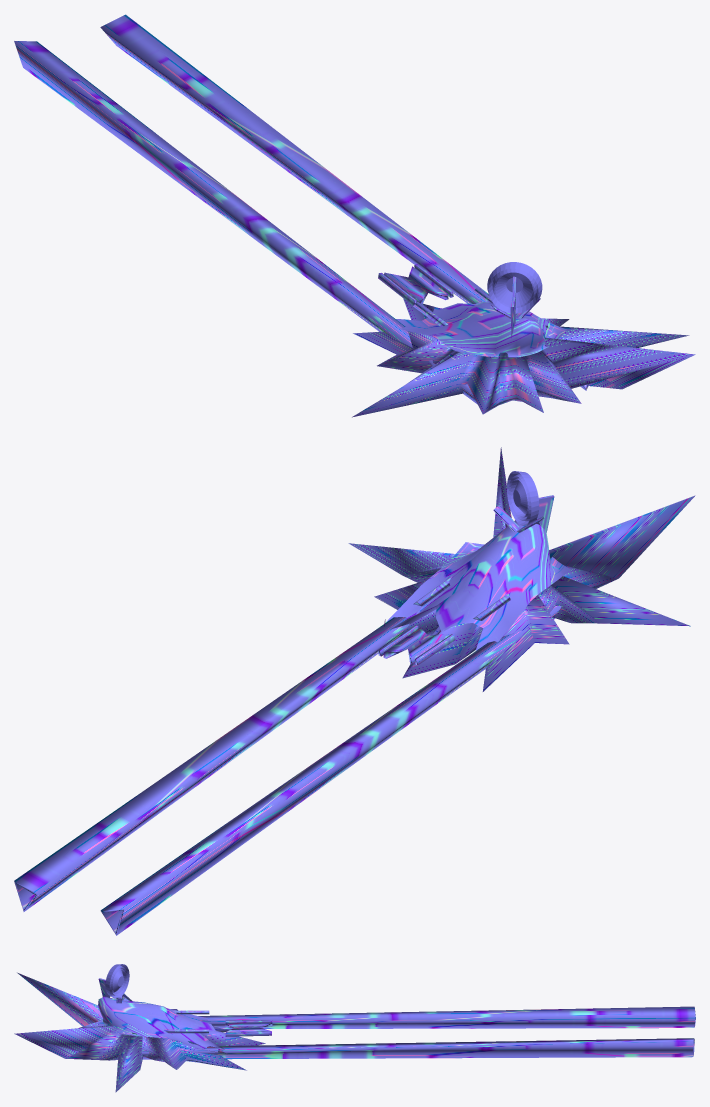
Rendered from gunship15.obj.
The picture shows the model from 3 angles, top to bottom: view 1: azimuth 30°, elevation 25°; view 2: azimuth 150°, elevation 25°; view 3: azimuth 270°, elevation 25°; orthographic projection. The views are drawn at different scales.
Visible parts, largest first — view 1: Ship_Body, Gun_2, Gun_1, Driving_Seat, radar; view 2: Ship_Body, Gun_2, Gun_1, Driving_Seat, radar; view 3: Gun_2, Gun_1, Ship_Body, Driving_Seat, radar, Gun_Stripes_2, Gun_Stripe_4.
Boxes of the visible parts, <box> form: Ship_Body: <box>352,298,695,417</box>; Gun_2: <box>14,41,477,404</box>; Gun_1: <box>100,14,589,390</box>; Driving_Seat: <box>396,294,566,357</box>; radar: <box>487,262,542,337</box>; Ship_Body: <box>348,447,695,691</box>; Gun_2: <box>100,606,561,935</box>; Gun_1: <box>14,617,410,911</box>; Driving_Seat: <box>384,520,570,650</box>; radar: <box>507,471,554,532</box>; Gun_2: <box>198,1006,695,1029</box>; Gun_1: <box>141,1038,694,1059</box>; Ship_Body: <box>14,972,265,1092</box>; Driving_Seat: <box>98,996,228,1054</box>; radar: <box>98,964,129,998</box>; Gun_Stripes_2: <box>225,1022,272,1027</box>; Gun_Stripe_4: <box>225,1031,271,1036</box>.
Bounding box in the file's own units: 6.99 × 2.57 × 18.85.
